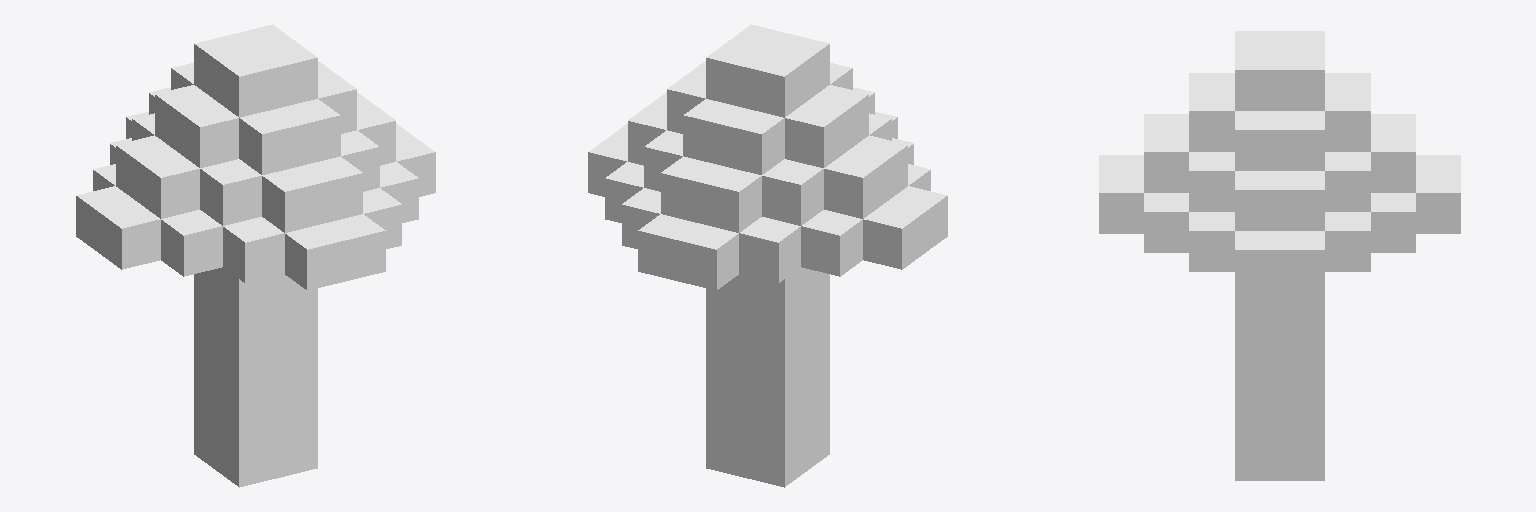
Rendered from mushrrom5.obj.
3 renders of one model, left to right at view 1: azimuth 30°, elevation 25°; view 2: azimuth 150°, elevation 25°; view 3: azimuth 270°, elevation 25°, orthographic.
Parts seen in each view (by area): view 1: object 1; view 2: object 1; view 3: object 1.
Boxes of the visible parts, x1,y1,x2,y2 form: object 1: [76, 24, 435, 487]; object 1: [588, 24, 947, 487]; object 1: [1099, 31, 1460, 480].
Size of the model in its own units: 0.8 by 1 by 0.8.